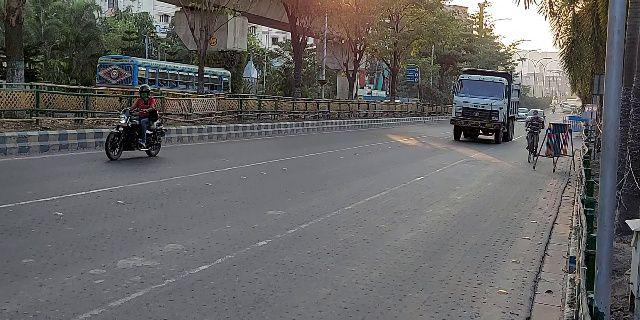Cycle: (523, 106, 542, 166)
Motorbike: (102, 82, 167, 163)
Truck: (447, 62, 522, 148)
